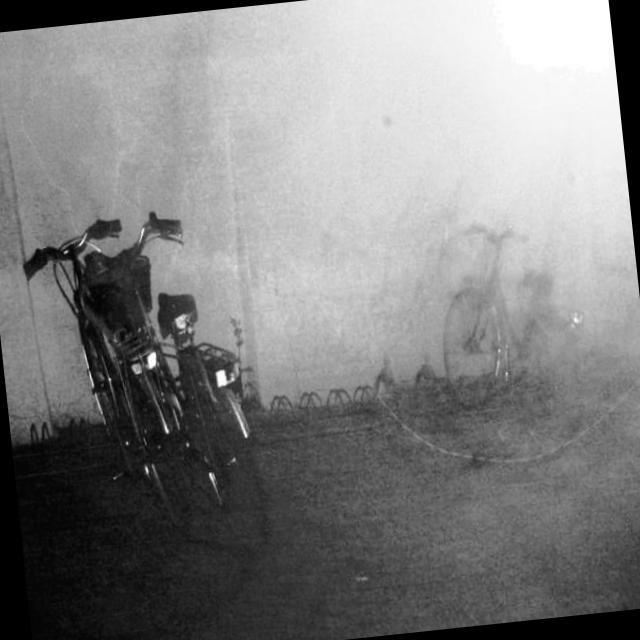Bicycle: (12, 183, 201, 582), (105, 187, 272, 580), (412, 208, 584, 428)
